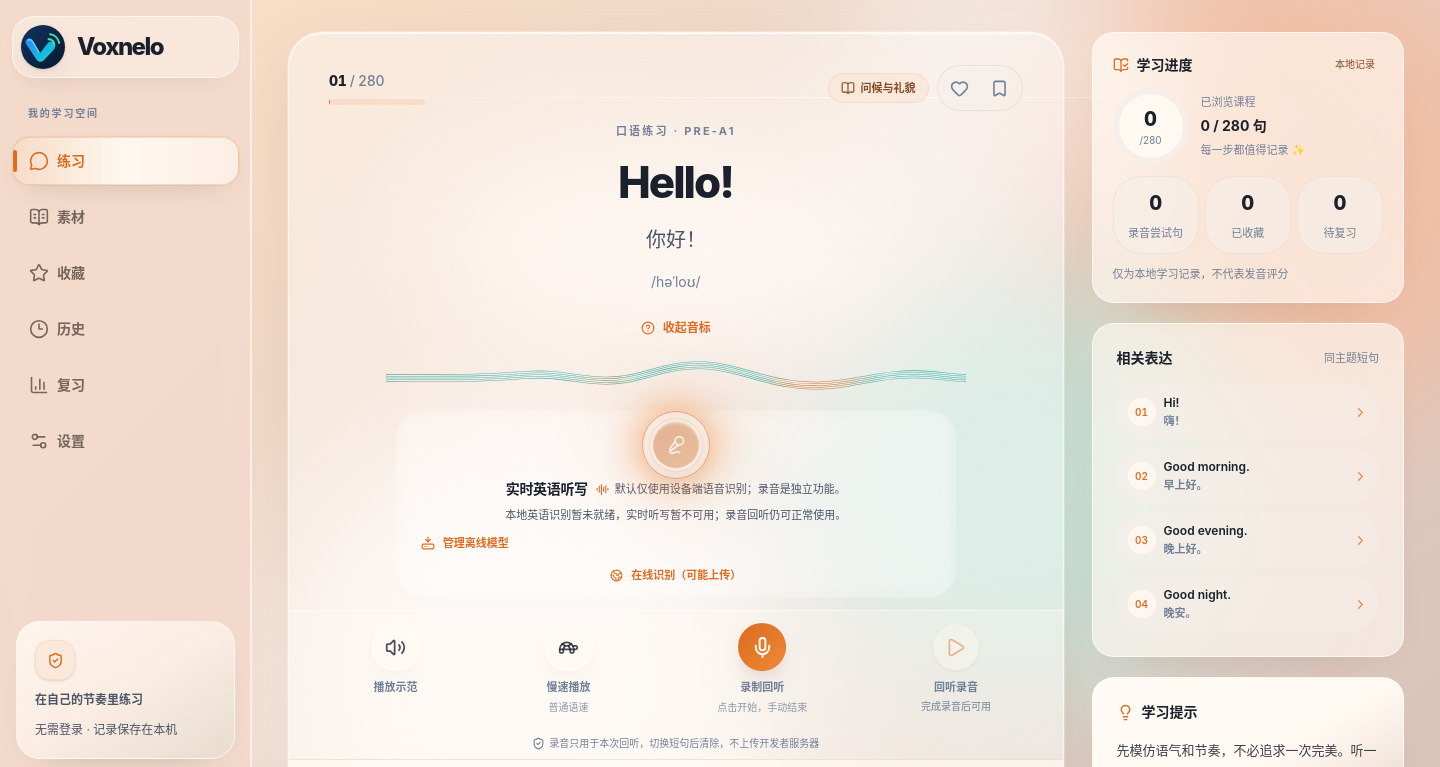
it: App smoke › F004: the visible microphone button cancels a pending OS grant without making a phantom practice
Expected: the heading "Hello!" is shown, [618,156,733,210]
Click the button named "开口跟读": (762, 647) [738,623,786,671]
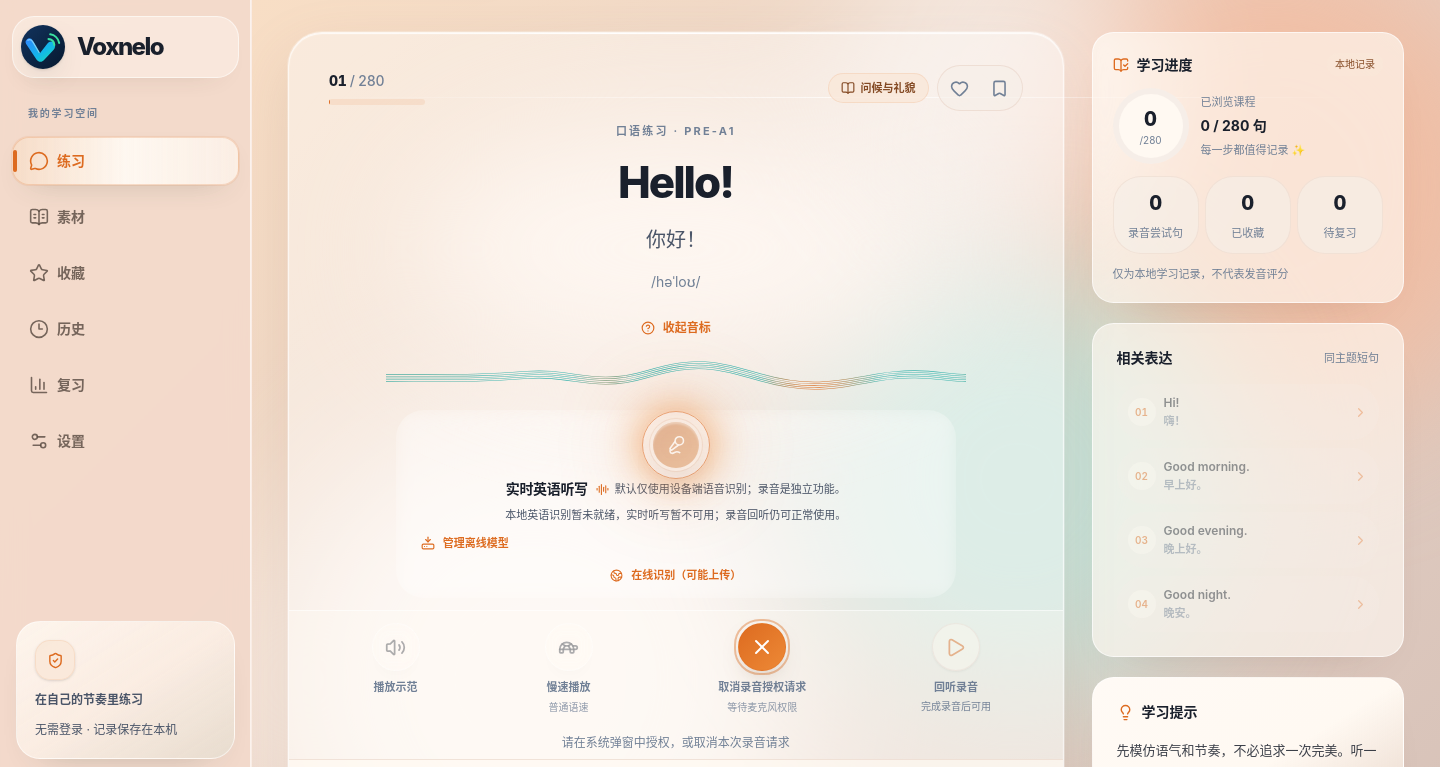
Click the button named "取消录音授权请求": (762, 647) [738,623,786,671]
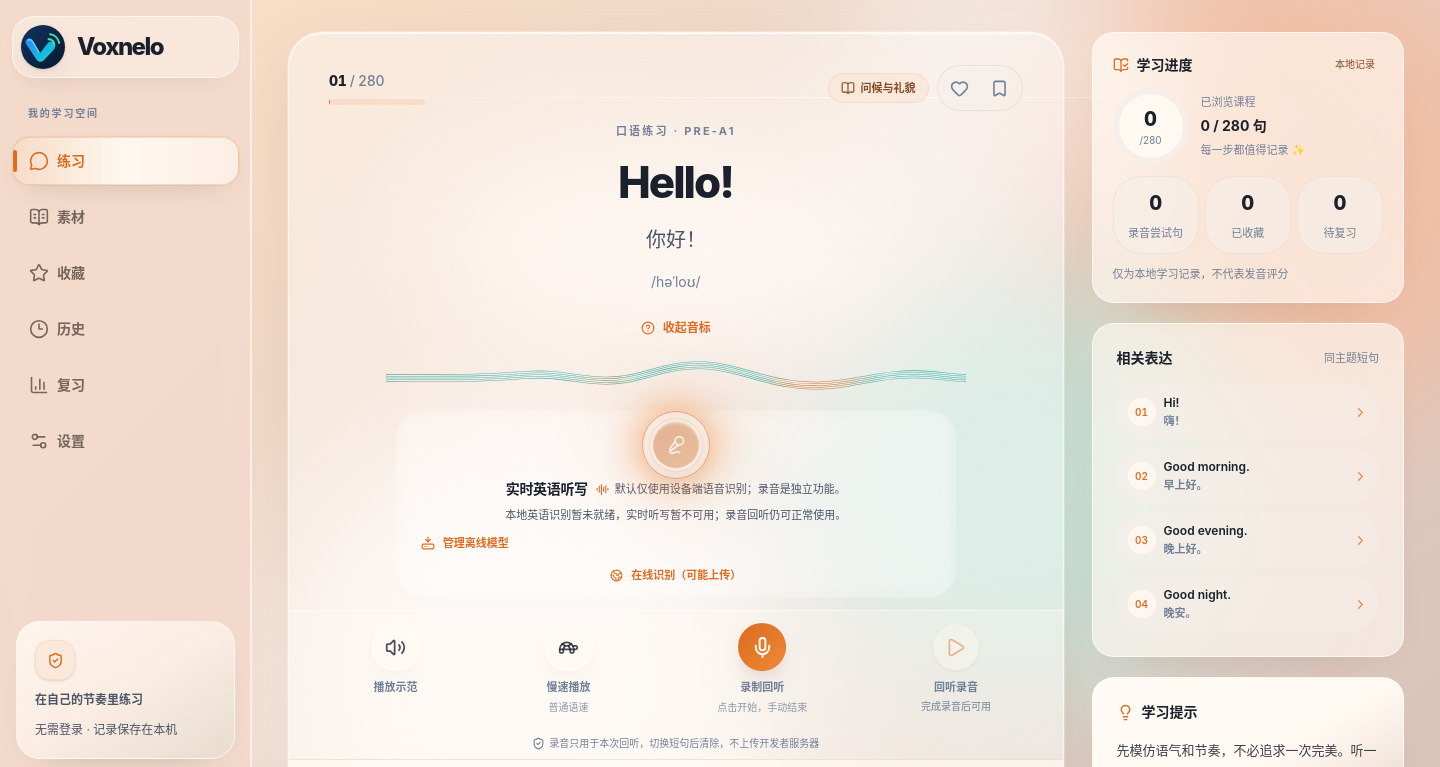
Now the text "取消录音授权请求" is gone
Now the button named "开口跟读" is shown, box [738,623,786,671]
